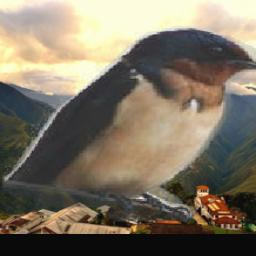Swallow: (2, 27, 256, 222)
